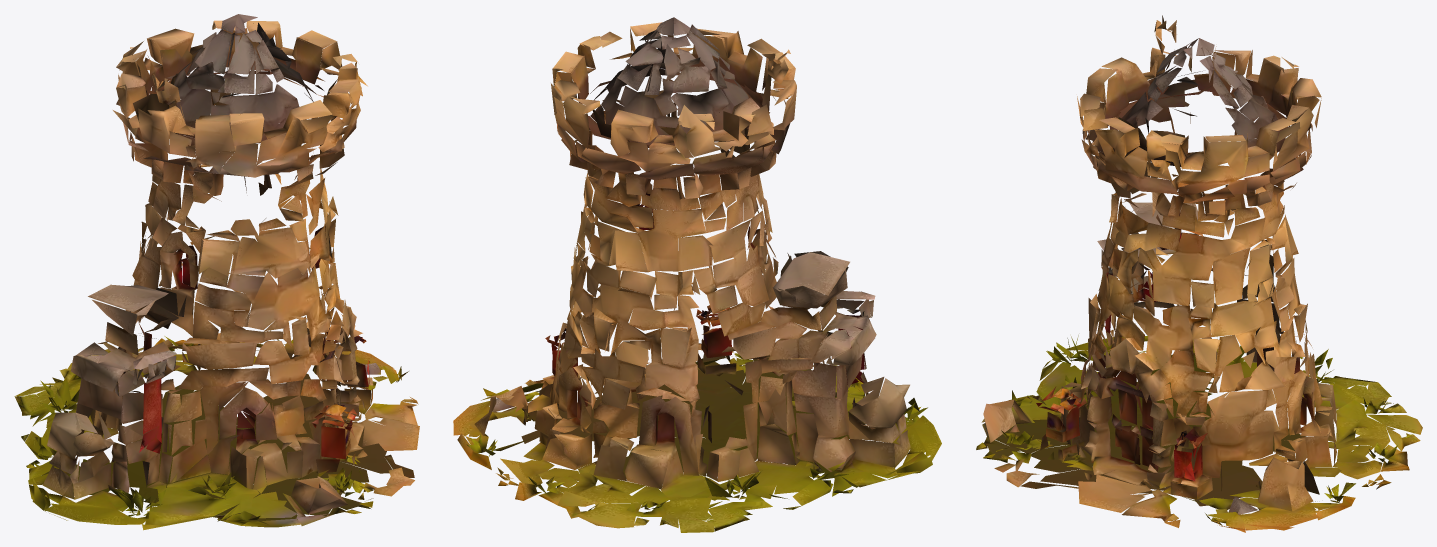
Rendered from tripo-torre-defesa154.glb.
3 views of the same model, side by side, from view 1: azimuth 30°, elevation 25°; view 2: azimuth 150°, elevation 25°; view 3: azimuth 270°, elevation 25° (orthographic). The views are drawn at different scales.
Visible parts, largest first — view 1: tripo_node_c537c9c4-d401-48ad-bea6-4607c09ed91e; view 2: tripo_node_c537c9c4-d401-48ad-bea6-4607c09ed91e; view 3: tripo_node_c537c9c4-d401-48ad-bea6-4607c09ed91e.
Part boxes in pixels (x1,y1,x2,y2): tripo_node_c537c9c4-d401-48ad-bea6-4607c09ed91e: [14, 14, 419, 530]; tripo_node_c537c9c4-d401-48ad-bea6-4607c09ed91e: [453, 17, 941, 532]; tripo_node_c537c9c4-d401-48ad-bea6-4607c09ed91e: [976, 15, 1422, 532].
Bounding box in the file's own units: 0.9864 × 0.9668 × 0.9402.
1 material, 1 textured.
